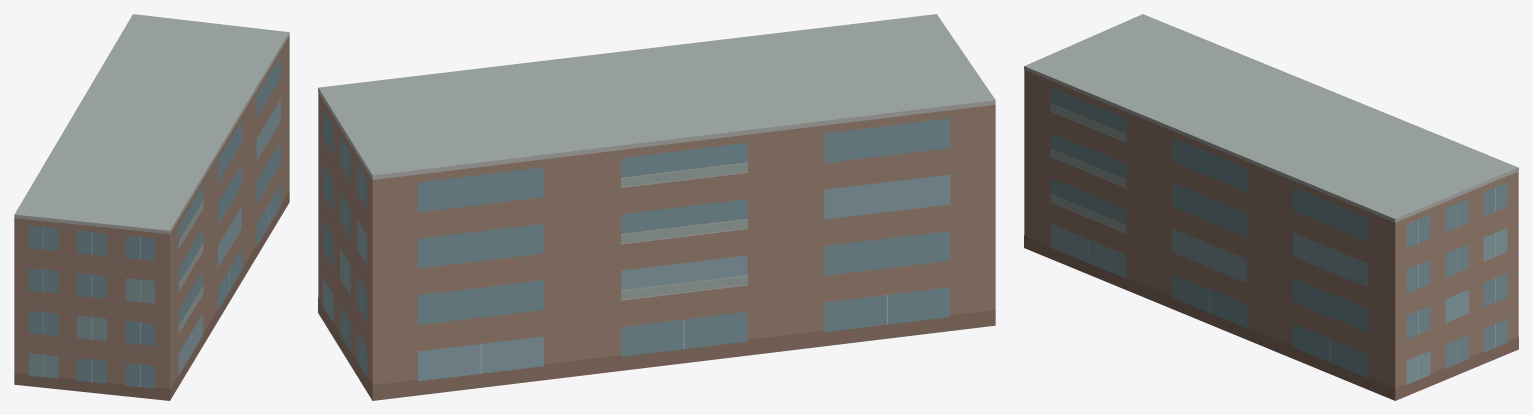
Rendered from survey-upis-32758176.glb.
The picture shows the model from 3 angles, left to right: view 1: azimuth 30°, elevation 25°; view 2: azimuth 150°, elevation 25°; view 3: azimuth 270°, elevation 25°; orthographic projection. The views are drawn at different scales.
Parts seen in each view (by area): view 1: survey-upis-32758176.tmp; view 2: survey-upis-32758176.tmp; view 3: survey-upis-32758176.tmp.
Part boxes in pixels (x1,y1,x2,y2): survey-upis-32758176.tmp: (14,14,289,400); survey-upis-32758176.tmp: (318,14,995,400); survey-upis-32758176.tmp: (1024,14,1518,400).
Size of the model in its own units: 29.52 by 12.2 by 30.09.
